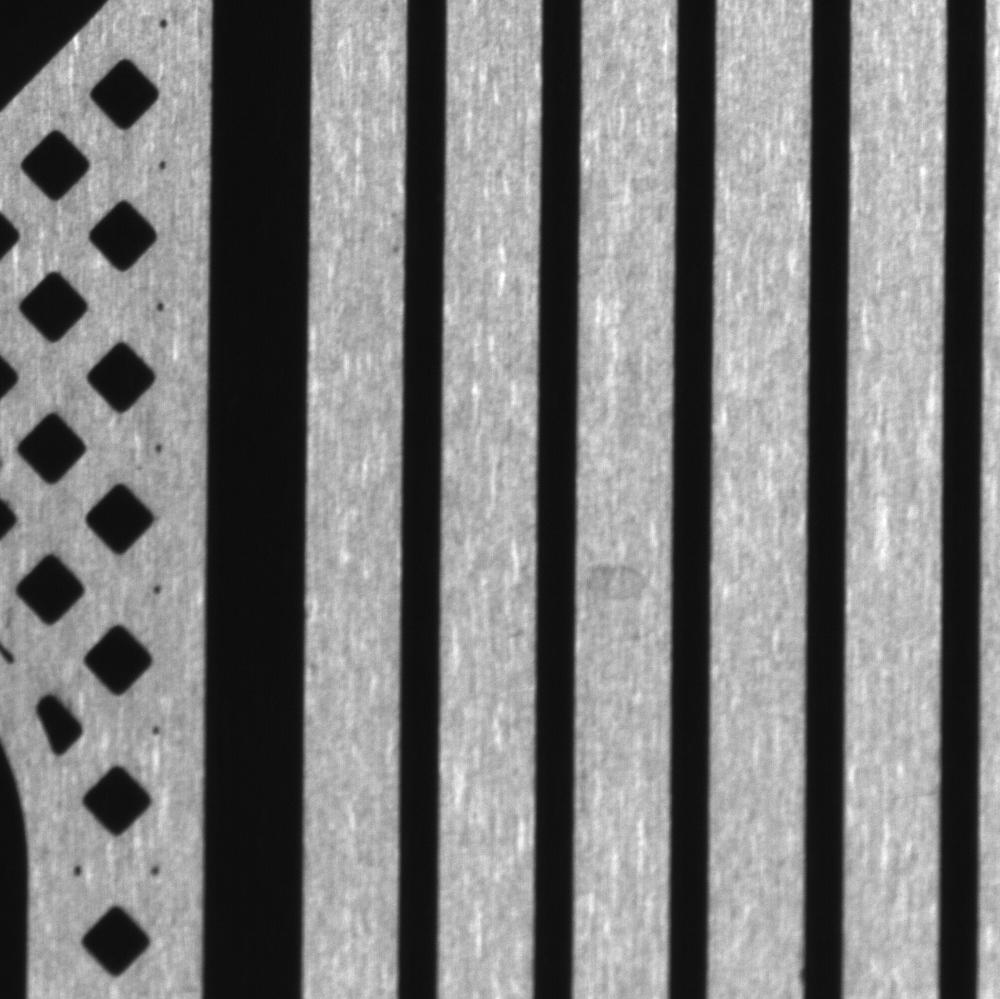Discolor: (579, 544, 656, 608)
Etching: (378, 235, 403, 262)
